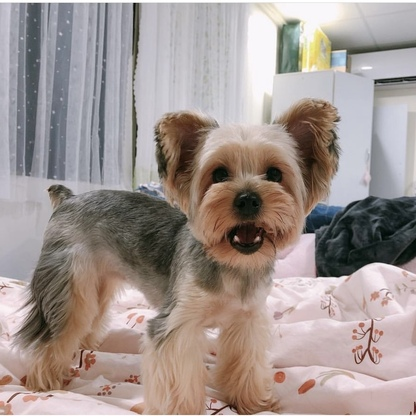yokshine: (25, 99, 339, 416)
